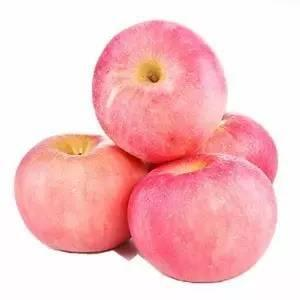apple: (128, 156, 277, 290), (90, 23, 228, 159), (14, 137, 146, 255)
